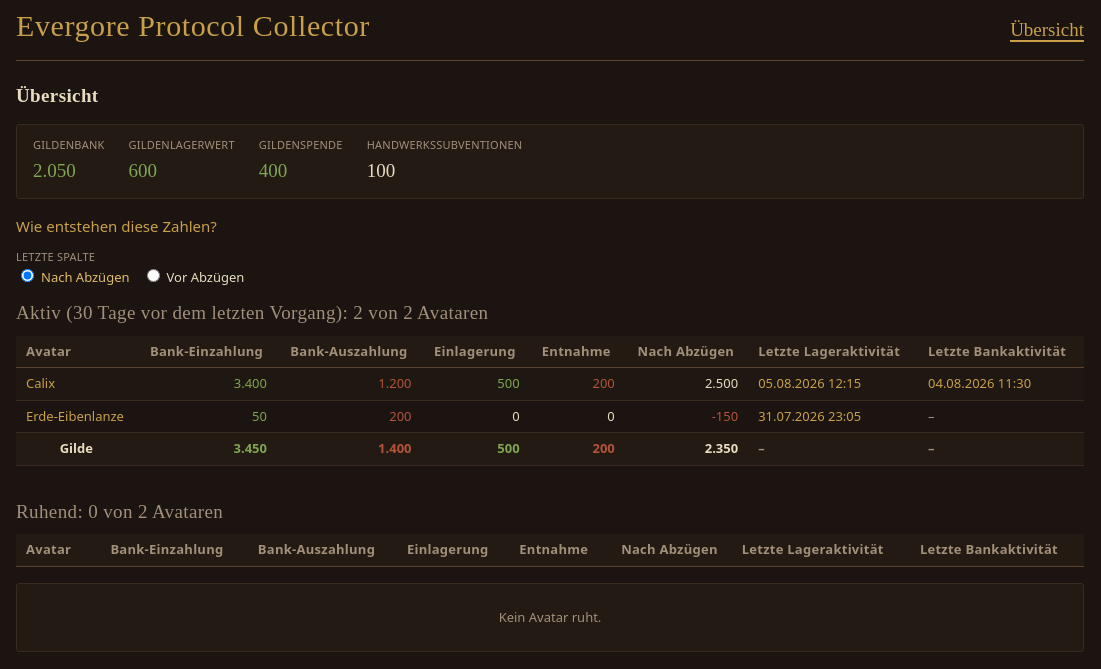
Test: App › states a row's figure before the deductions as the server rounded it rather than adding up its rounded parts
The width and height of the screenshot is (1101, 669).
Click the radio button labelled "Vor Abzügen".
click(153, 275)  # box [146,269,160,282]
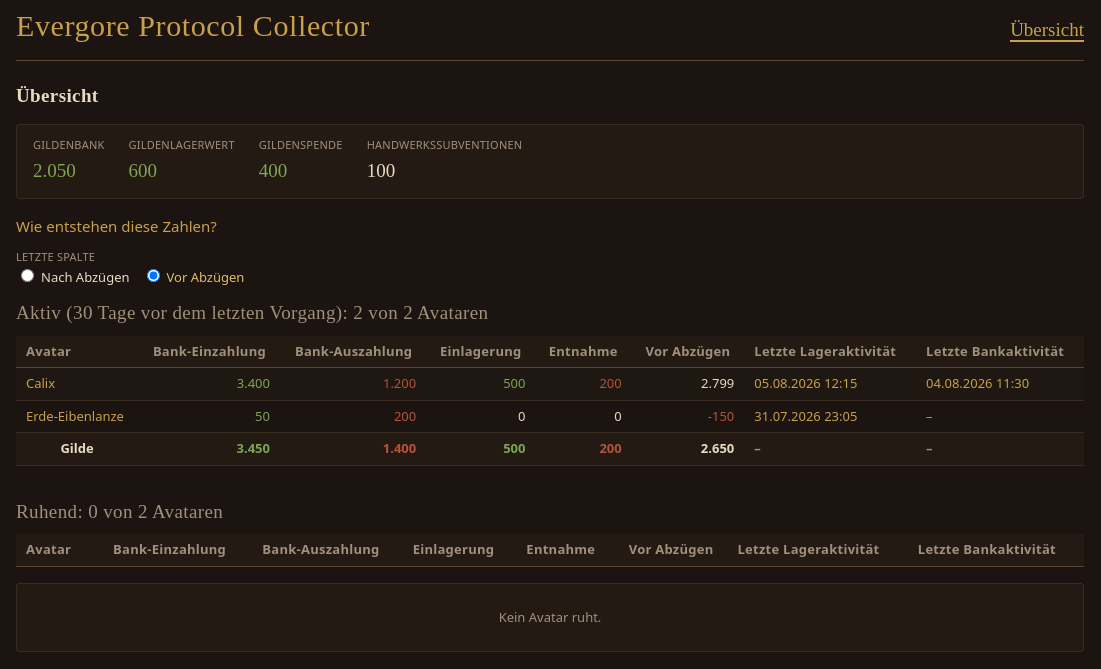
Expected: the text "2.799" is shown, [632,368,744,400]
